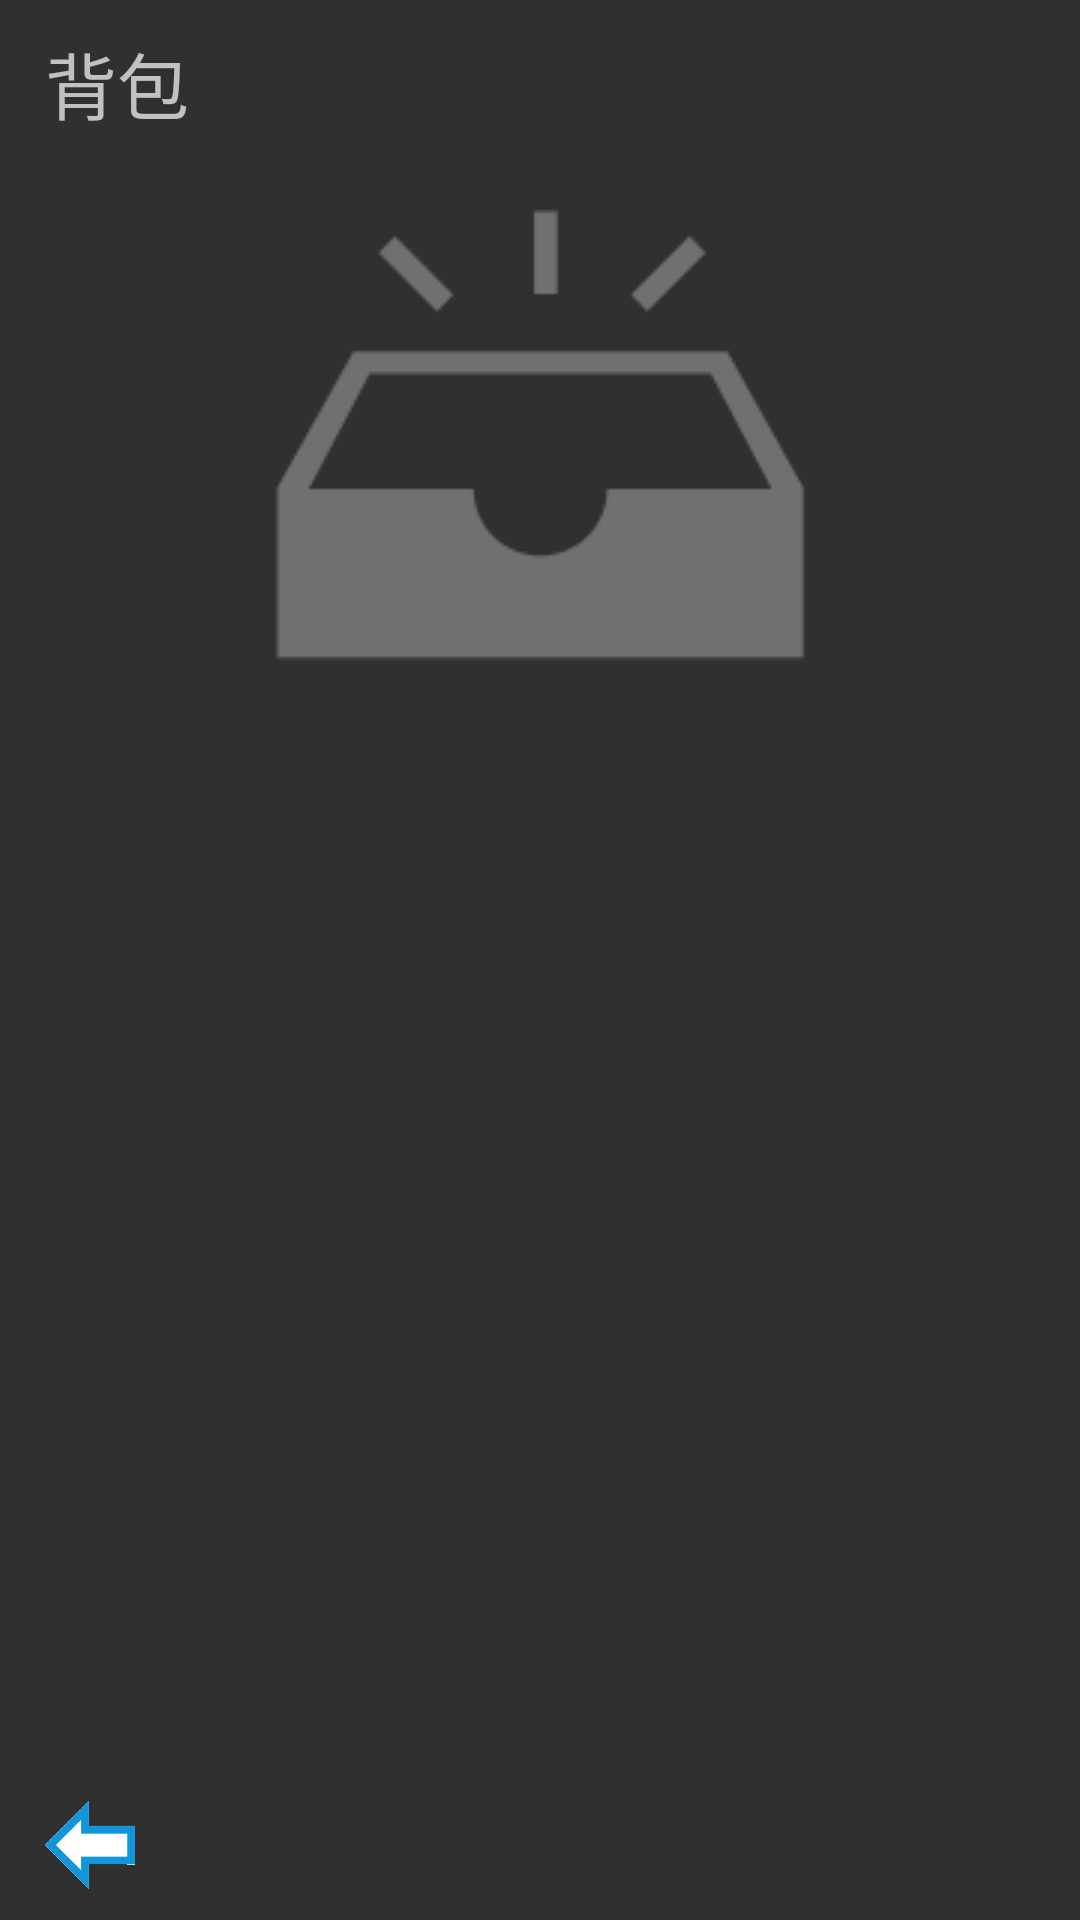

Icons on this 1080×1920 Android screen, each with the point to tap as point (x, y):
back: point (90, 1845)
